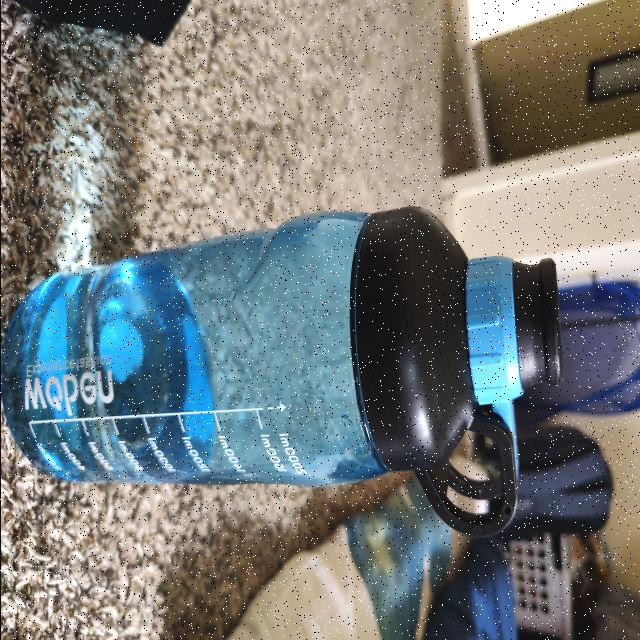bottle: (4, 210, 558, 532)
